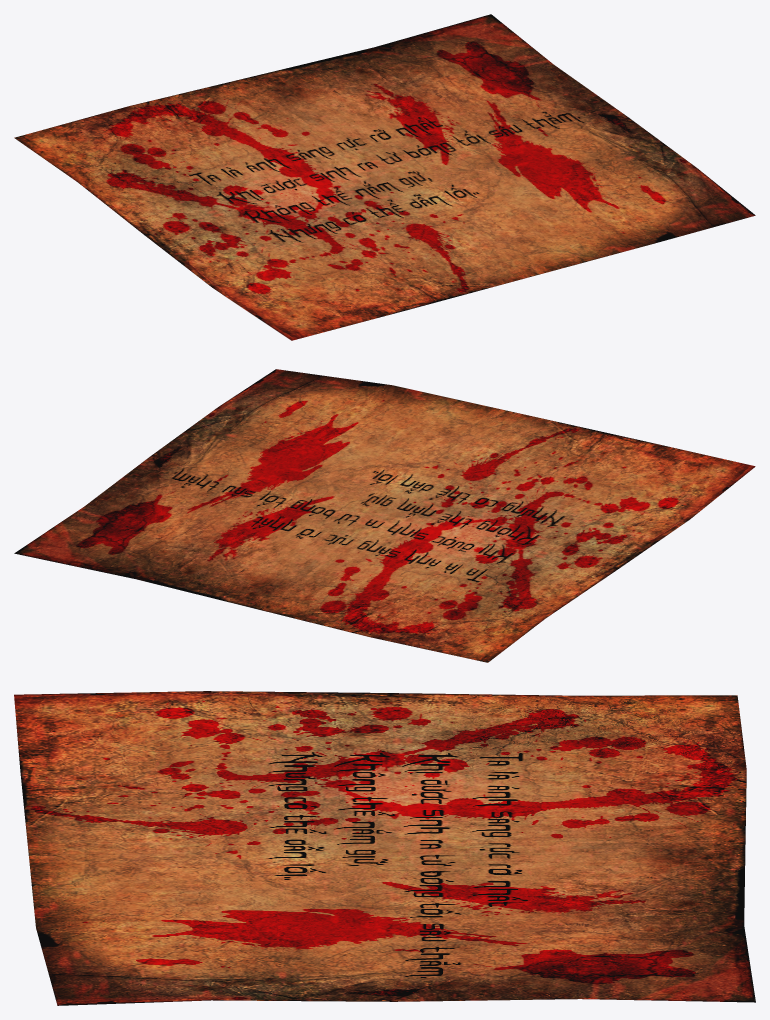
Rendered from Gamemini2.fbx.
3 views of the same model, one above another, from view 1: azimuth 30°, elevation 25°; view 2: azimuth 150°, elevation 25°; view 3: azimuth 270°, elevation 25° (orthographic). The views are drawn at different scales.
Parts seen in each view (by area): view 1: Plane; view 2: Plane; view 3: Plane.
Part boxes in pixels (x1=…): Plane: x1=14, y1=14, x2=755, y2=340; Plane: x1=14, y1=369, x2=755, y2=662; Plane: x1=14, y1=691, x2=755, y2=1005.
Size of the model in its own units: 198 by 1.82 by 199.
1 material, 1 textured.
